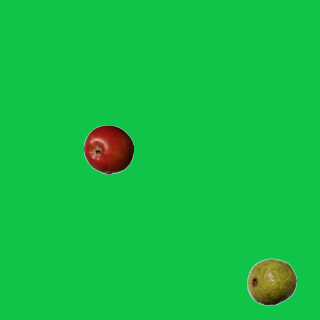Apple Braeburn: (83, 124, 133, 174)
Guava: (246, 256, 296, 306)
